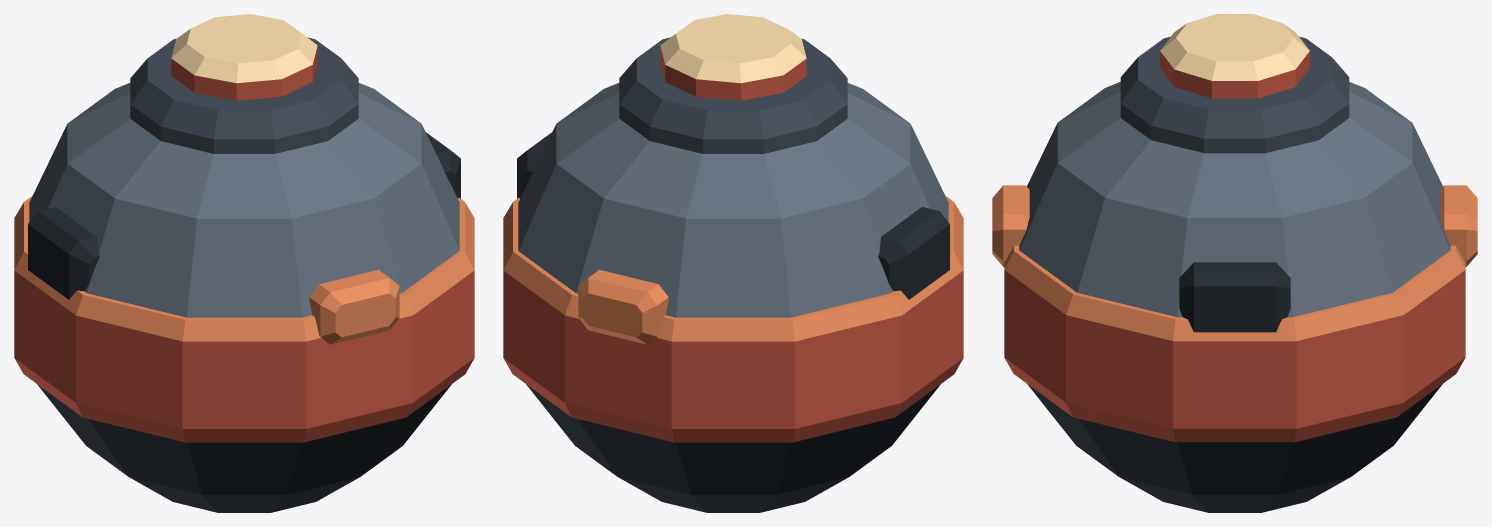
The model's file is EnemyThrownBomb.obj.
3 renders of one model, left to right at view 1: azimuth 30°, elevation 25°; view 2: azimuth 150°, elevation 25°; view 3: azimuth 270°, elevation 25°, orthographic.
Parts seen in each view (by area): view 1: EnemyThrownBomb; view 2: EnemyThrownBomb; view 3: EnemyThrownBomb.
Part boxes in pixels (x1,y1,x2,y2): EnemyThrownBomb: [14, 14, 474, 512]; EnemyThrownBomb: [503, 14, 963, 512]; EnemyThrownBomb: [992, 14, 1477, 512].
Bounding box in the file's own units: 0.9543 × 0.99 × 1.
Materials: 1 (1 with a texture image).
